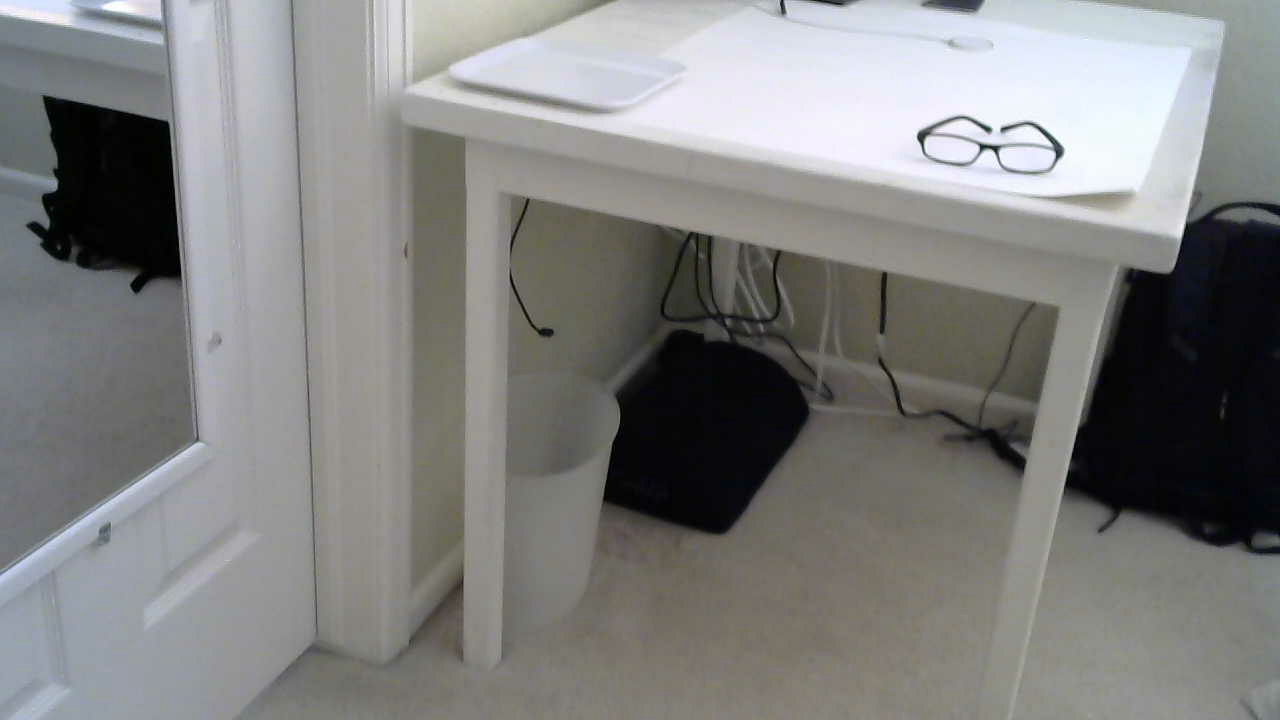Glasses: (905, 103, 1076, 183)
